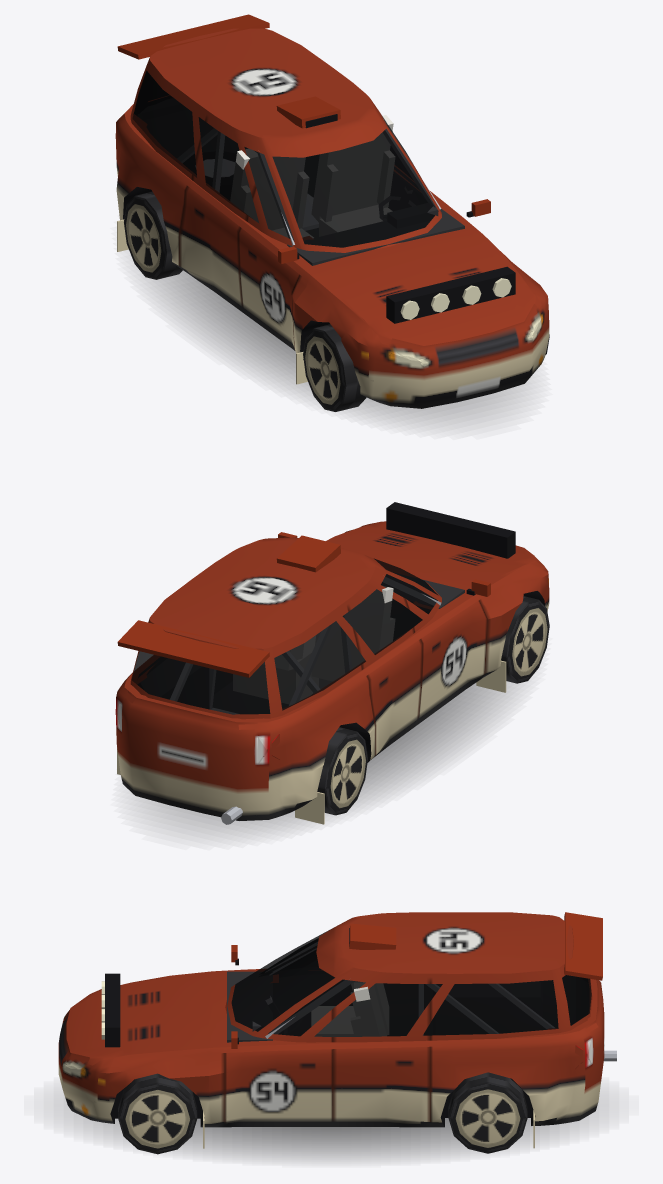
The model's file is jaspe.glb.
The picture shows the model from 3 angles, top to bottom: view 1: azimuth 30°, elevation 25°; view 2: azimuth 150°, elevation 25°; view 3: azimuth 270°, elevation 25°; orthographic projection. The views are drawn at different scales.
Parts seen in each view (by area): view 1: Carroceria, Interior, Capo_malha, Porta_TD_malha, Sombra, Porta_D_malha, Roda_DD, Roda_TD, Tampa_malha; view 2: Carroceria, Tampa_malha, Interior, Capo_malha, Sombra, Porta_TD_malha, Porta_D_malha, Roda_TD, Roda_DD; view 3: Carroceria, Interior, Porta_TE_malha, Porta_E_malha, Sombra, Capo_malha, Roda_TE, Roda_DE, Tampa_malha, Porta_D_malha.
Part boxes in pixels (<box>): Carroceria: <box>115,28,549,408</box>; Interior: <box>138,98,464,265</box>; Capo_malha: <box>319,236,541,345</box>; Porta_TD_malha: <box>179,111,269,303</box>; Sombra: <box>147,271,522,424</box>; Porta_D_malha: <box>238,162,301,348</box>; Roda_DD: <box>303,324,366,411</box>; Roda_TD: <box>124,191,182,279</box>; Tampa_malha: <box>117,14,269,114</box>; Carroceria: <box>115,523,549,824</box>; Tampa_malha: <box>117,620,270,801</box>; Interior: <box>138,573,464,713</box>; Capo_malha: <box>331,502,540,585</box>; Sombra: <box>139,682,515,835</box>; Porta_TD_malha: <box>346,567,422,755</box>; Porta_D_malha: <box>391,574,490,715</box>; Roda_TD: <box>317,727,367,815</box>; Roda_DD: <box>501,596,549,683</box>; Carroceria: <box>58,912,616,1148</box>; Interior: <box>227,942,588,1042</box>; Porta_TE_malha: <box>333,968,430,1122</box>; Porta_E_malha: <box>224,982,333,1122</box>; Sombra: <box>63,1097,599,1159</box>; Capo_malha: <box>71,973,208,1065</box>; Roda_TE: <box>448,1072,527,1153</box>; Roda_DE: <box>118,1073,197,1154</box>; Tampa_malha: <box>559,912,604,1096</box>; Porta_D_malha: <box>231,939,317,973</box>.
Size of the model in its own units: 2.38 by 1.52 by 4.96.
14 materials, 5 textured.
